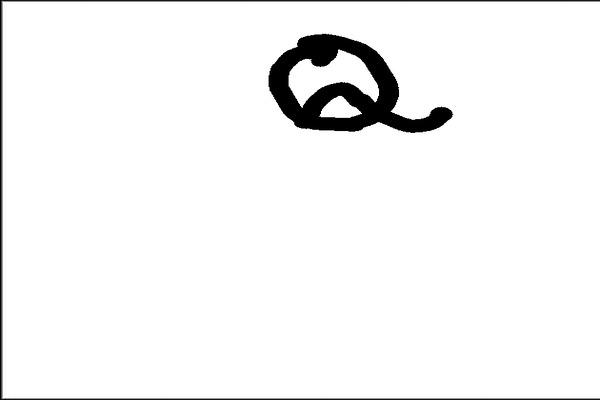Q: (255, 25, 463, 145)
